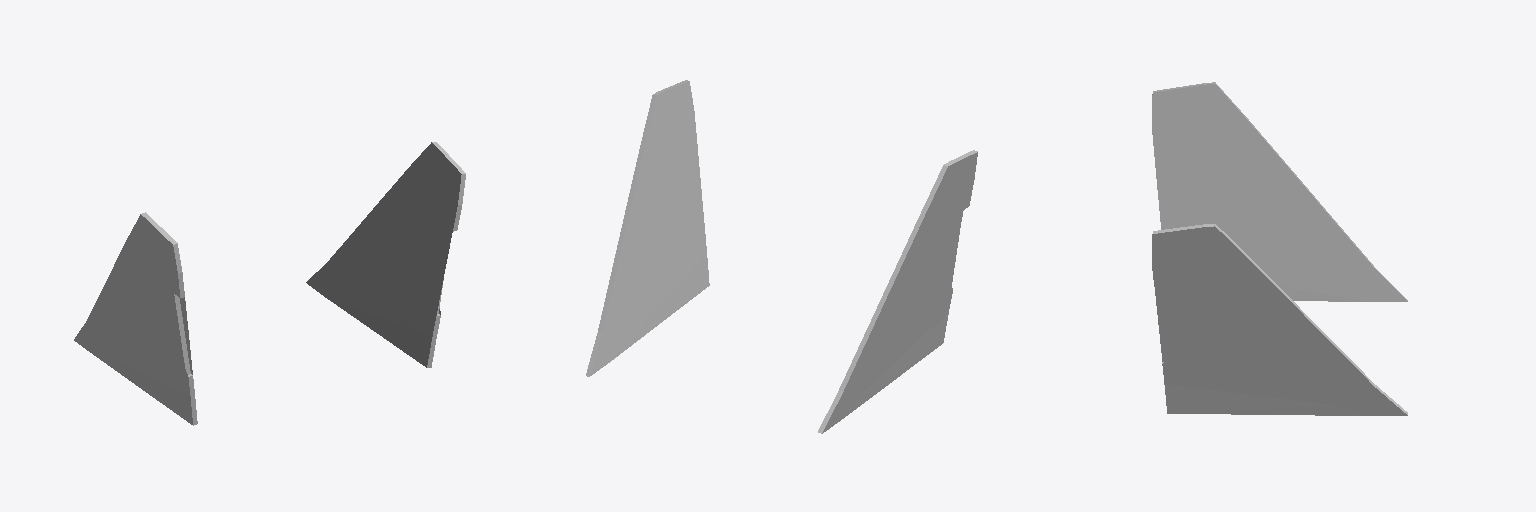
File: tail2.obj
3 renders of one model, left to right at view 1: azimuth 30°, elevation 25°; view 2: azimuth 150°, elevation 25°; view 3: azimuth 270°, elevation 25°, orthographic.
Parts seen in each view (by area): view 1: Cube.005; view 2: Cube.005; view 3: Cube.005.
Boxes of the visible parts, <box> form: Cube.005: <box>74,142,465,425</box>; Cube.005: <box>586,80,977,433</box>; Cube.005: <box>1152,82,1407,415</box>.
Bounding box in the file's own units: 1.87 × 1.24 × 1.41.